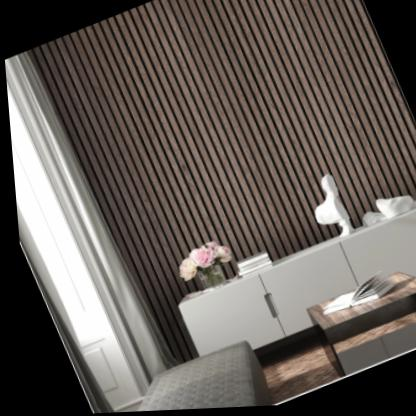Sideboard: (173, 208, 416, 359)
Wall Panel: (19, 0, 416, 368)
